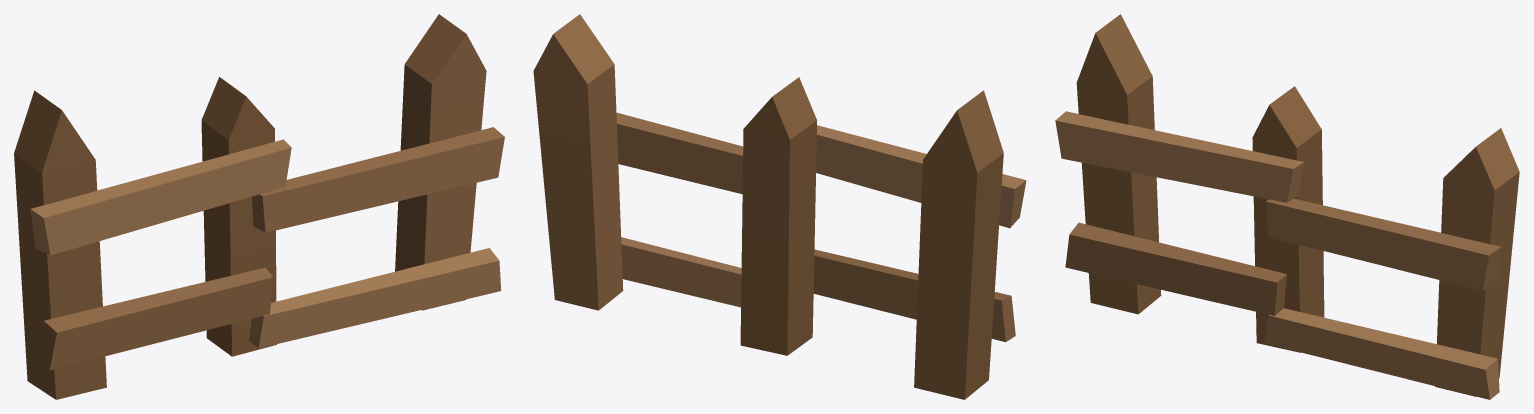
File: Fence_WoodB_D.fbx
3 views of the same model, side by side, from view 1: azimuth 30°, elevation 25°; view 2: azimuth 150°, elevation 25°; view 3: azimuth 330°, elevation 25° (orthographic). The views are drawn at different scales.
Visible parts, largest first — view 1: Fence_WoodB_D; view 2: Fence_WoodB_D; view 3: Fence_WoodB_D.
Boxes of the visible parts, x1,y1,x2,y2 form: Fence_WoodB_D: [14, 14, 504, 399]; Fence_WoodB_D: [533, 14, 1026, 399]; Fence_WoodB_D: [1055, 14, 1519, 399].
Size of the model in its own units: 191 by 114 by 28.37.
